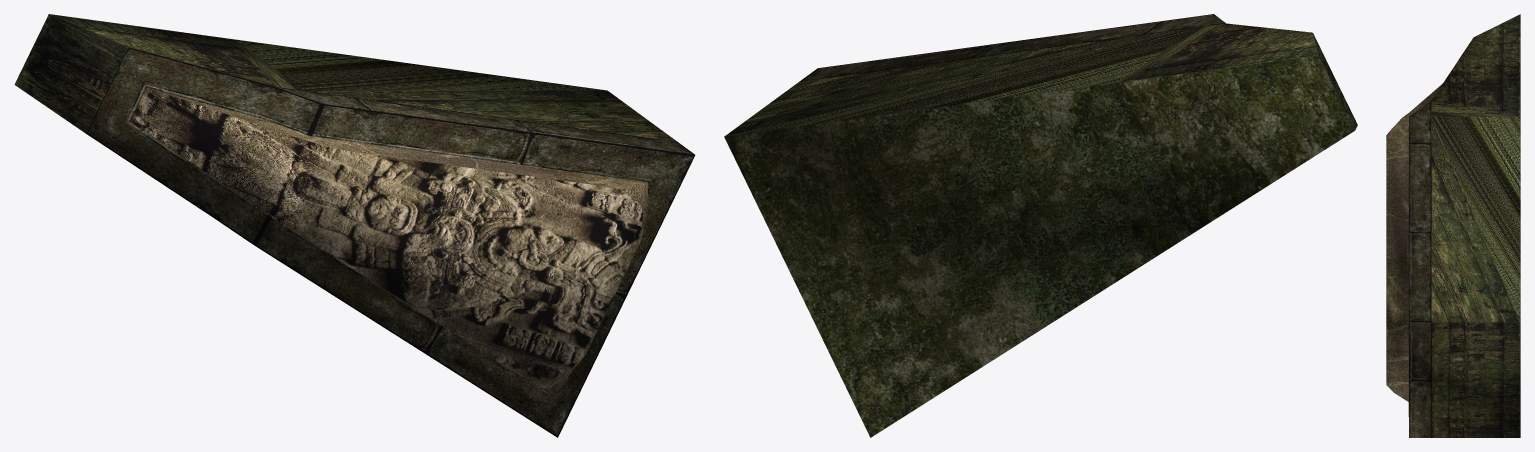
Rendered from EVT_ADDON_NW_TROLLPORTAL_PORTAL_03.glb.
3 renders of one model, left to right at view 1: azimuth 30°, elevation 25°; view 2: azimuth 150°, elevation 25°; view 3: azimuth 270°, elevation 25°, orthographic. The views are drawn at different scales.
Visible parts, largest first — view 1: Mesh; view 2: Mesh; view 3: Mesh.
Part boxes in pixels (box(x1,y1,x2,y2)): Mesh: box(14, 14, 695, 437); Mesh: box(724, 14, 1357, 437); Mesh: box(1386, 14, 1520, 437).
Size of the model in its own units: 1.93 by 1.43 by 0.596.
Materials: 5 (5 with a texture image).
